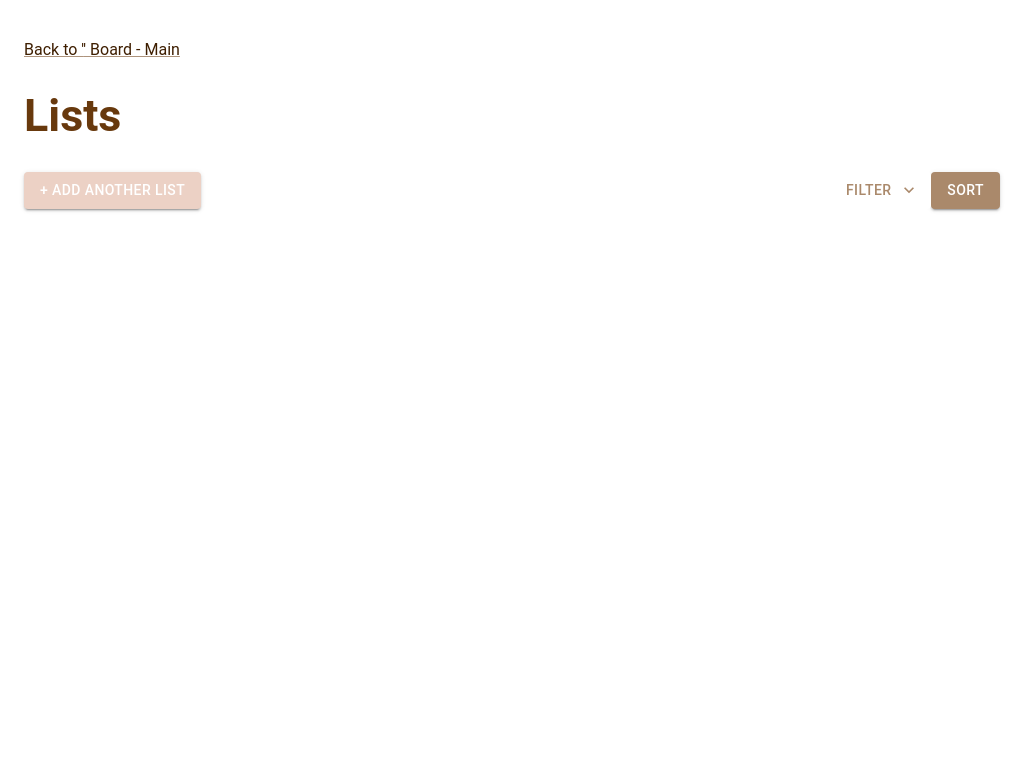
Testing <Lists /> Component › should open a modal
Click the button with id "add-list-button" at (112, 190), box [24,172,201,208]
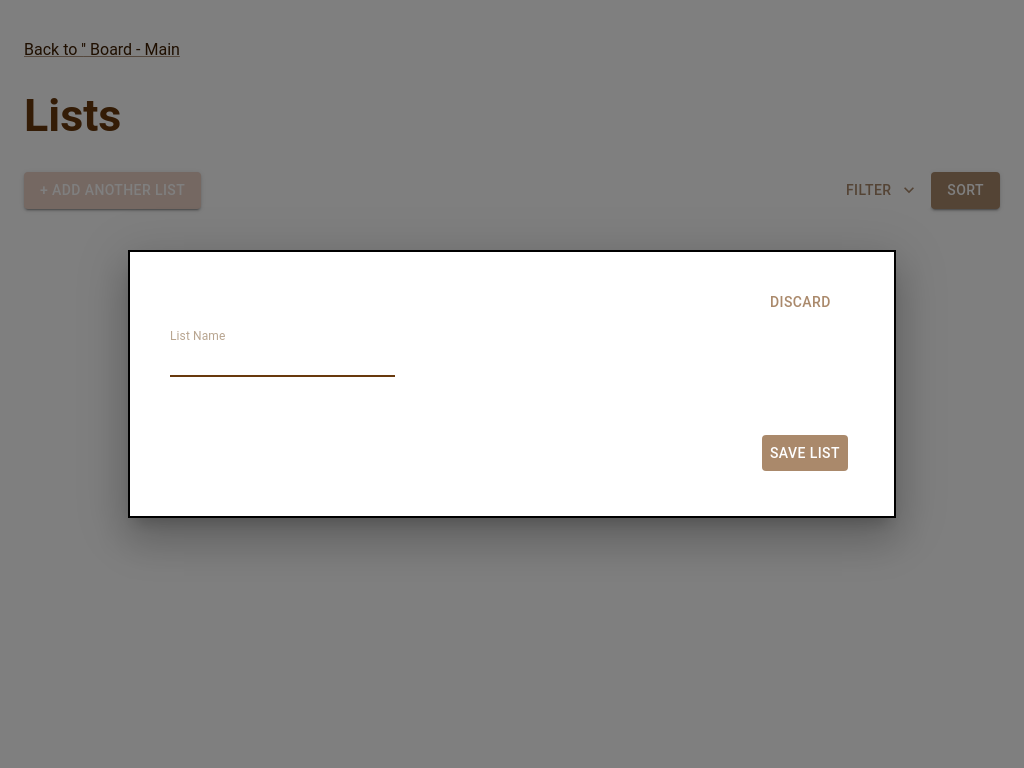
Expected: the element with id "modal-modal-description" is shown, [162,292,862,421]
